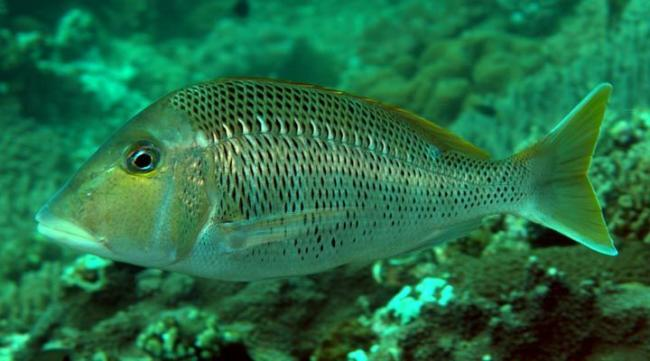fish: (35, 78, 618, 282)
